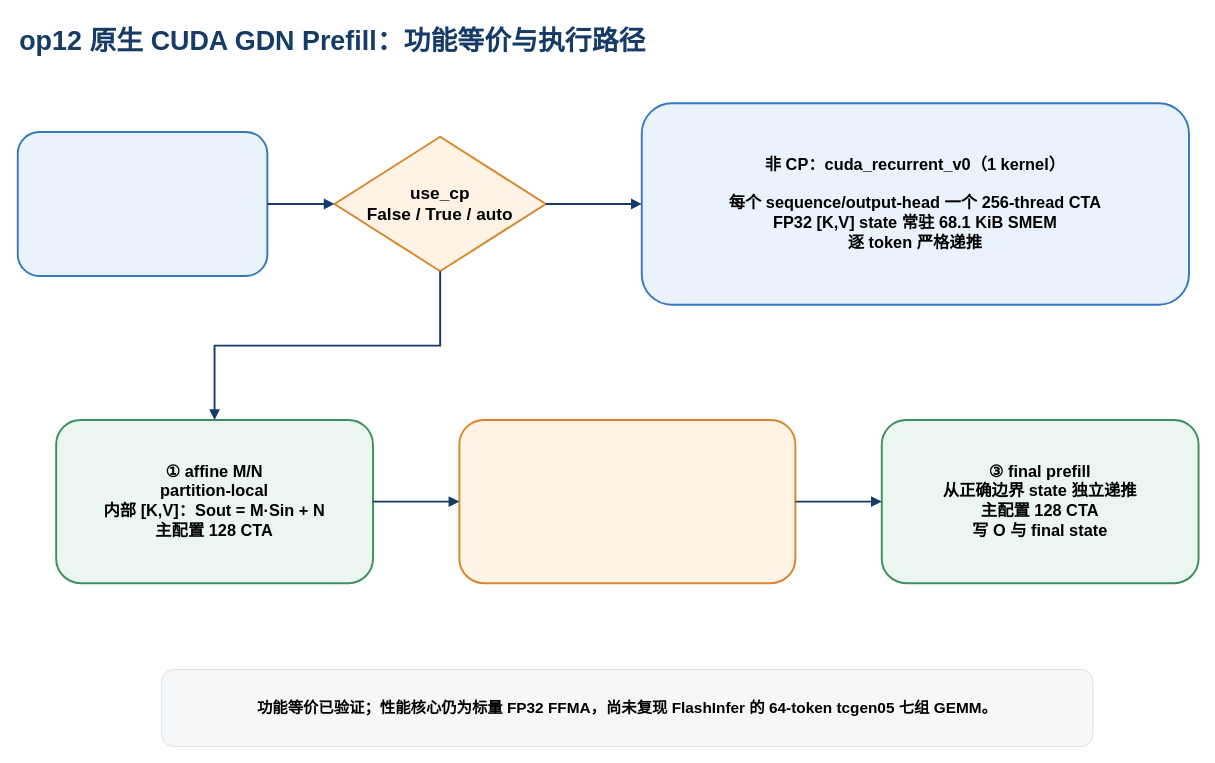
Image size: 1215x763. Some labels were removed from this diagram. The shapes that lost their labels are listed below. From the top down, each one's box as (x1, y1, x2, y2) in pixels, then its label:
(16, 131, 268, 276): TND packed-varlen Q/K/V: FP16 或 BF16 g/beta: FP32, D=128 initial/final state
(458, 419, 796, 584): ② prefix fixup 顺序修正 partition 边界 state 仅 16 CTA FP32 M·state + N
